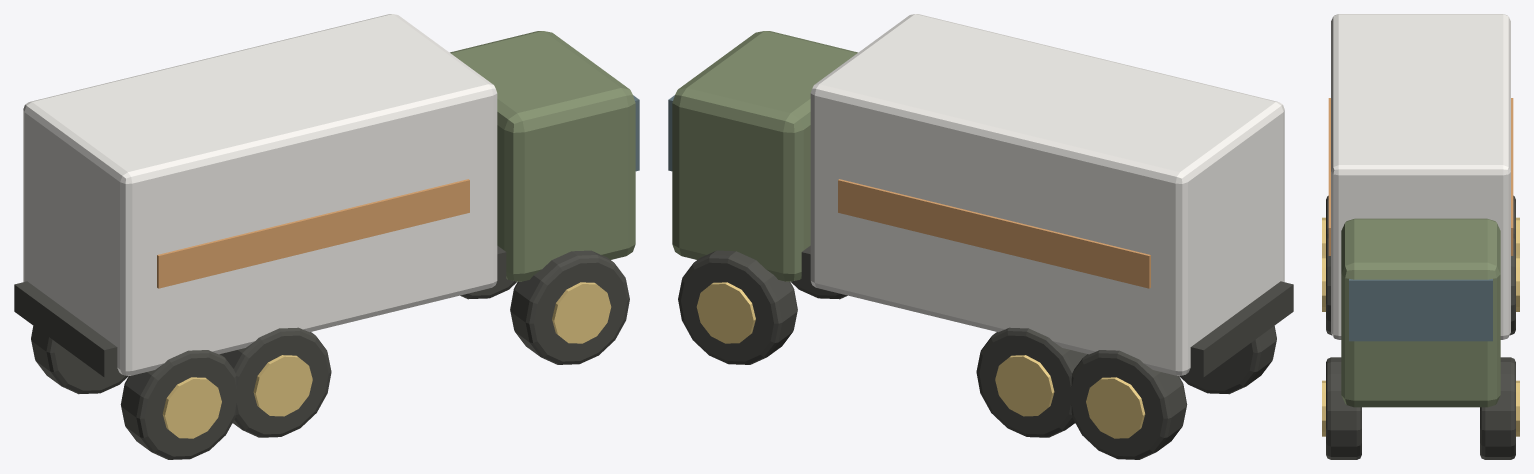
The model's file is camiao.glb.
3 renders of one model, left to right at view 1: azimuth 30°, elevation 25°; view 2: azimuth 150°, elevation 25°; view 3: azimuth 270°, elevation 25°, orthographic. The views are drawn at different scales.
Parts seen in each view (by area): view 1: agro_camiao_00; view 2: agro_camiao_00; view 3: agro_camiao_00.
Boxes of the visible parts, x1,y1,x2,y2 form: agro_camiao_00: (14,14,639,459); agro_camiao_00: (668,14,1293,459); agro_camiao_00: (1322,14,1519,459).
Bounding box in the file's own units: 2.07 × 1.1 × 0.77.
